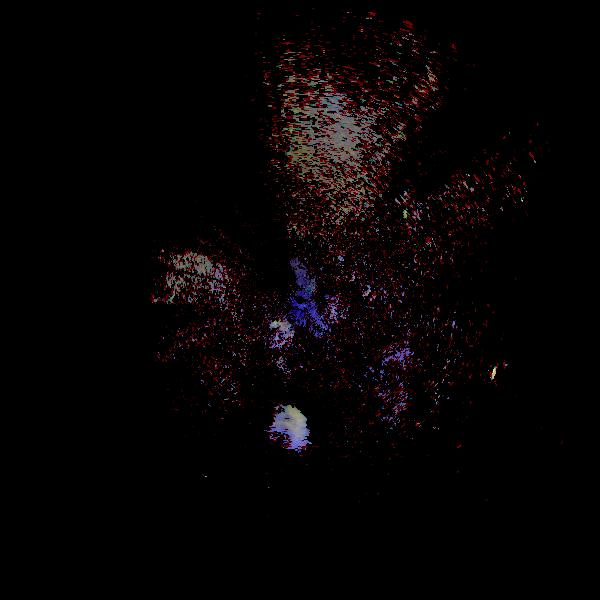roost: (263, 415, 308, 460), (261, 317, 294, 350), (273, 406, 306, 439)
